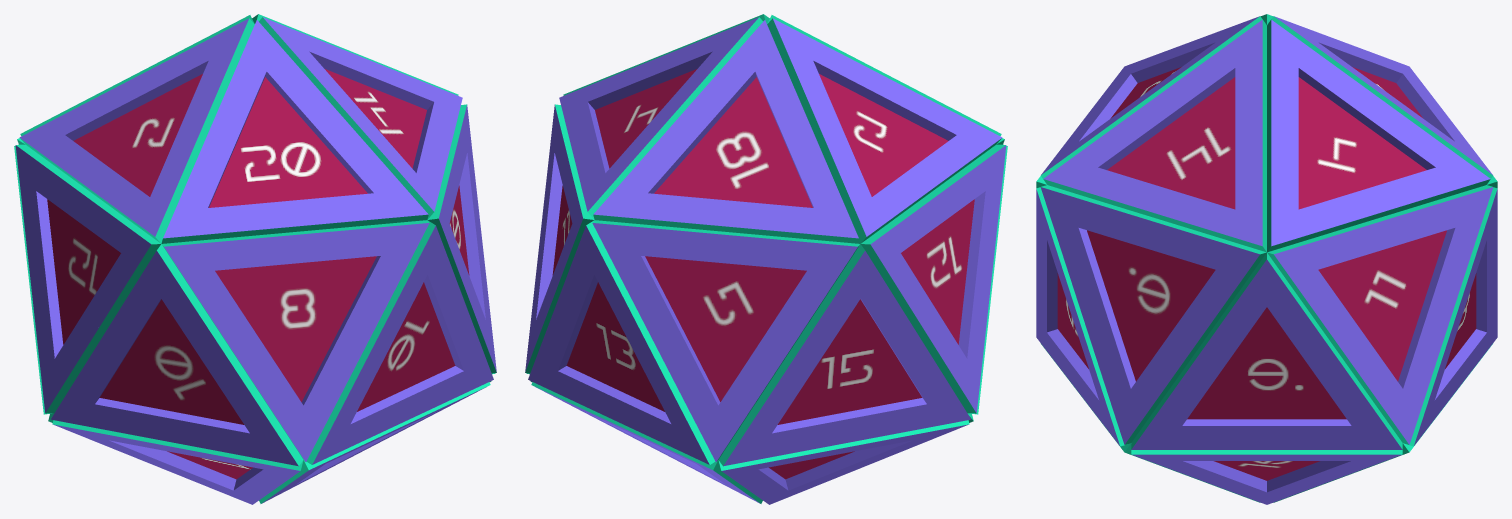
The model's file is dicewtexture.fbx.
3 views of the same model, side by side, from view 1: azimuth 30°, elevation 25°; view 2: azimuth 150°, elevation 25°; view 3: azimuth 270°, elevation 25° (orthographic).
Visible parts, largest first — view 1: Icosphere; view 2: Icosphere; view 3: Icosphere.
Boxes of the visible parts, <box> form: Icosphere: <box>14,14,496,504</box>; Icosphere: <box>525,14,1007,504</box>; Icosphere: <box>1036,14,1497,504</box>.
Bounding box in the file's own units: 188 × 207 × 179.
3 materials, 1 textured.
